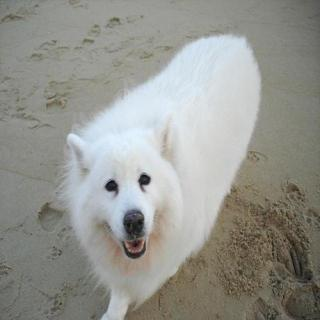dog: (64, 120, 182, 268)
nose: (120, 209, 148, 236)
